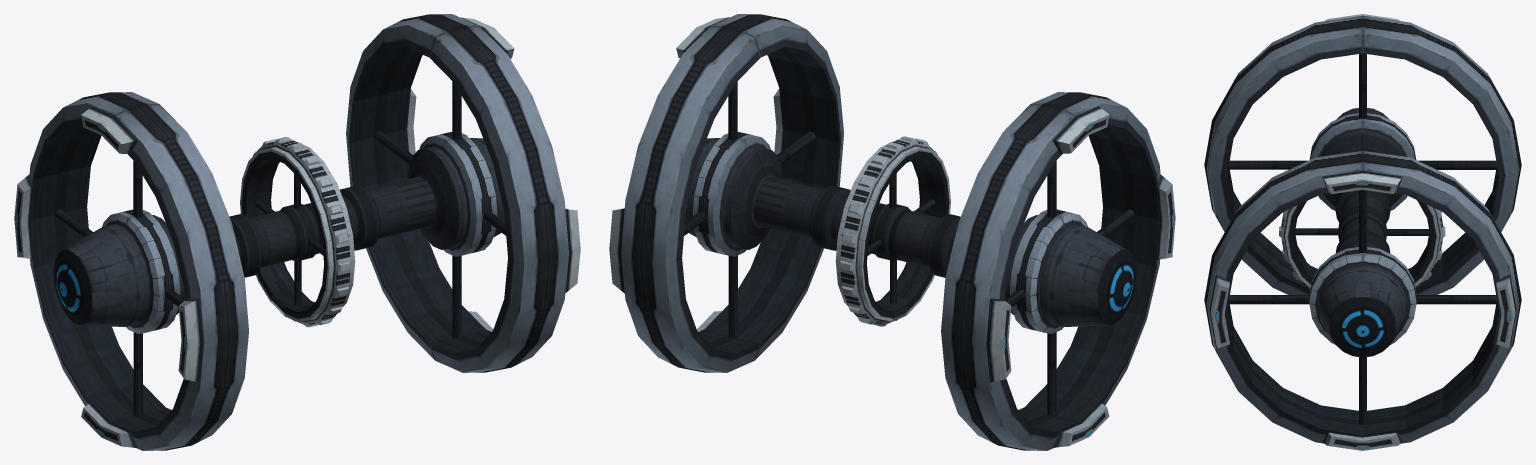
Rendered from ts_xgcj005.FBX.
The picture shows the model from 3 angles, left to right: view 1: azimuth 30°, elevation 25°; view 2: azimuth 150°, elevation 25°; view 3: azimuth 270°, elevation 25°; orthographic projection. The views are drawn at different scales.
Parts seen in each view (by area): view 1: ts_xgcj005; view 2: ts_xgcj005; view 3: ts_xgcj005.
Boxes of the visible parts, <box> form: ts_xgcj005: <box>14,14,580,450</box>; ts_xgcj005: <box>609,14,1175,450</box>; ts_xgcj005: <box>1204,14,1521,450</box>.
Size of the model in its own units: 0.5533 by 0.3722 by 0.372.
